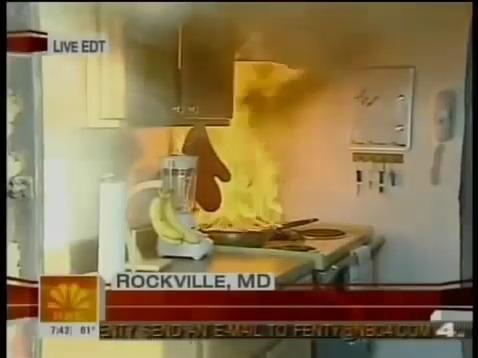fire: (176, 55, 298, 234)
